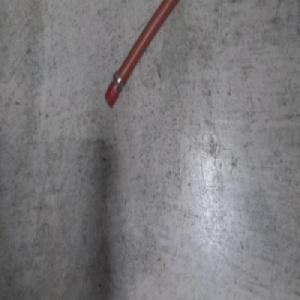Hose: (105, 0, 190, 112)
